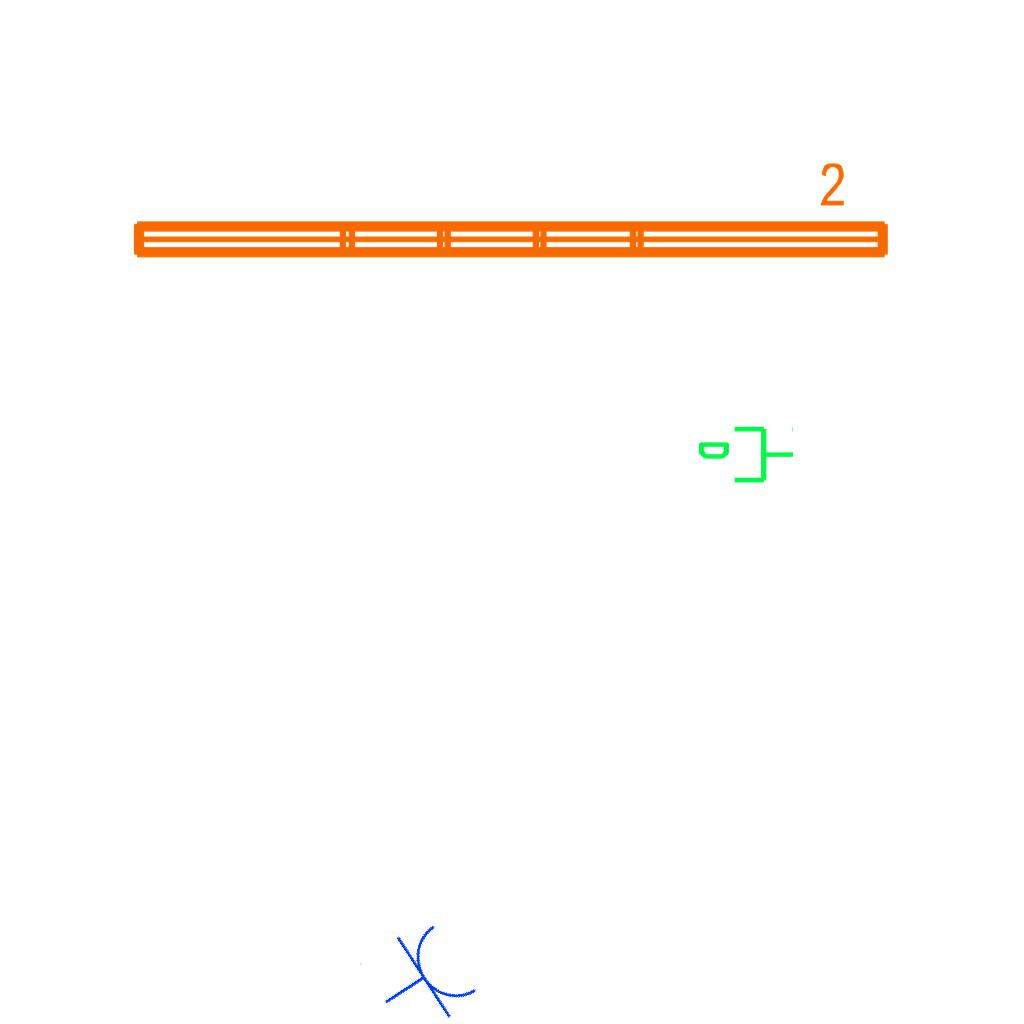Ambulanz_Pendelleuchte_LED: (123, 158, 897, 270)
Datenanschluss_einfach: (696, 422, 796, 491)
Schukosteckdose_einfach: (358, 913, 486, 1024)
